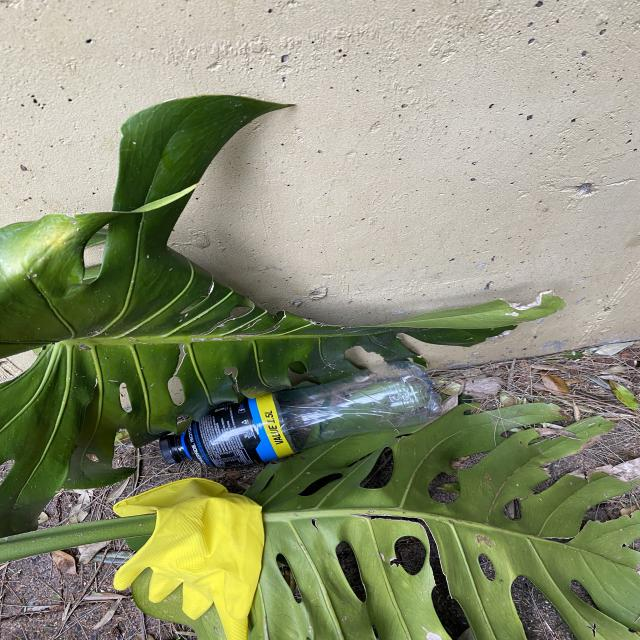bottle: (160, 361, 442, 469)
